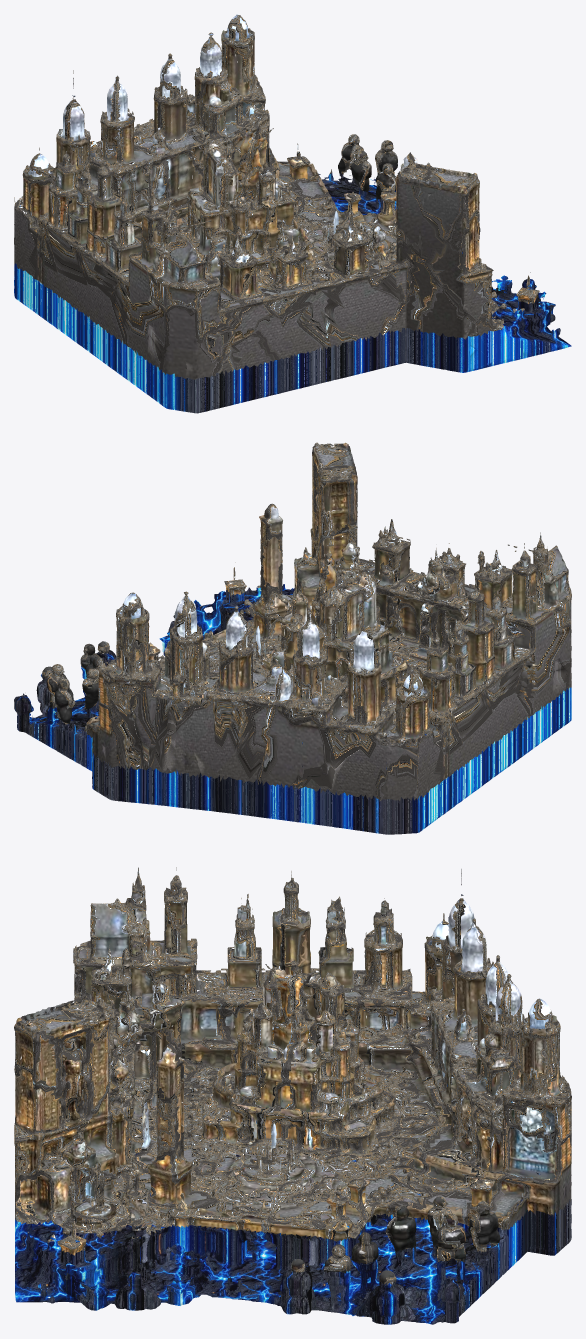
File: MEGAPOLE_PBR_TERRAIN_UPGRADED_WEB_OPTIMIZED.glb
3 views of the same model, one above another, from view 1: azimuth 30°, elevation 25°; view 2: azimuth 150°, elevation 25°; view 3: azimuth 270°, elevation 25° (orthographic). The views are drawn at different scales.
Visible parts, largest first — view 1: SILMARI_LLION_MEGAPOLE; view 2: SILMARI_LLION_MEGAPOLE; view 3: SILMARI_LLION_MEGAPOLE.
Part boxes in pixels (x1,y1,x2,y2): SILMARI_LLION_MEGAPOLE: [14, 14, 571, 413]; SILMARI_LLION_MEGAPOLE: [14, 442, 571, 834]; SILMARI_LLION_MEGAPOLE: [14, 867, 571, 1324].
Bounding box in the file's own units: 0.9795 × 0.4925 × 0.9658.
Materials: 2 (2 with a texture image).
